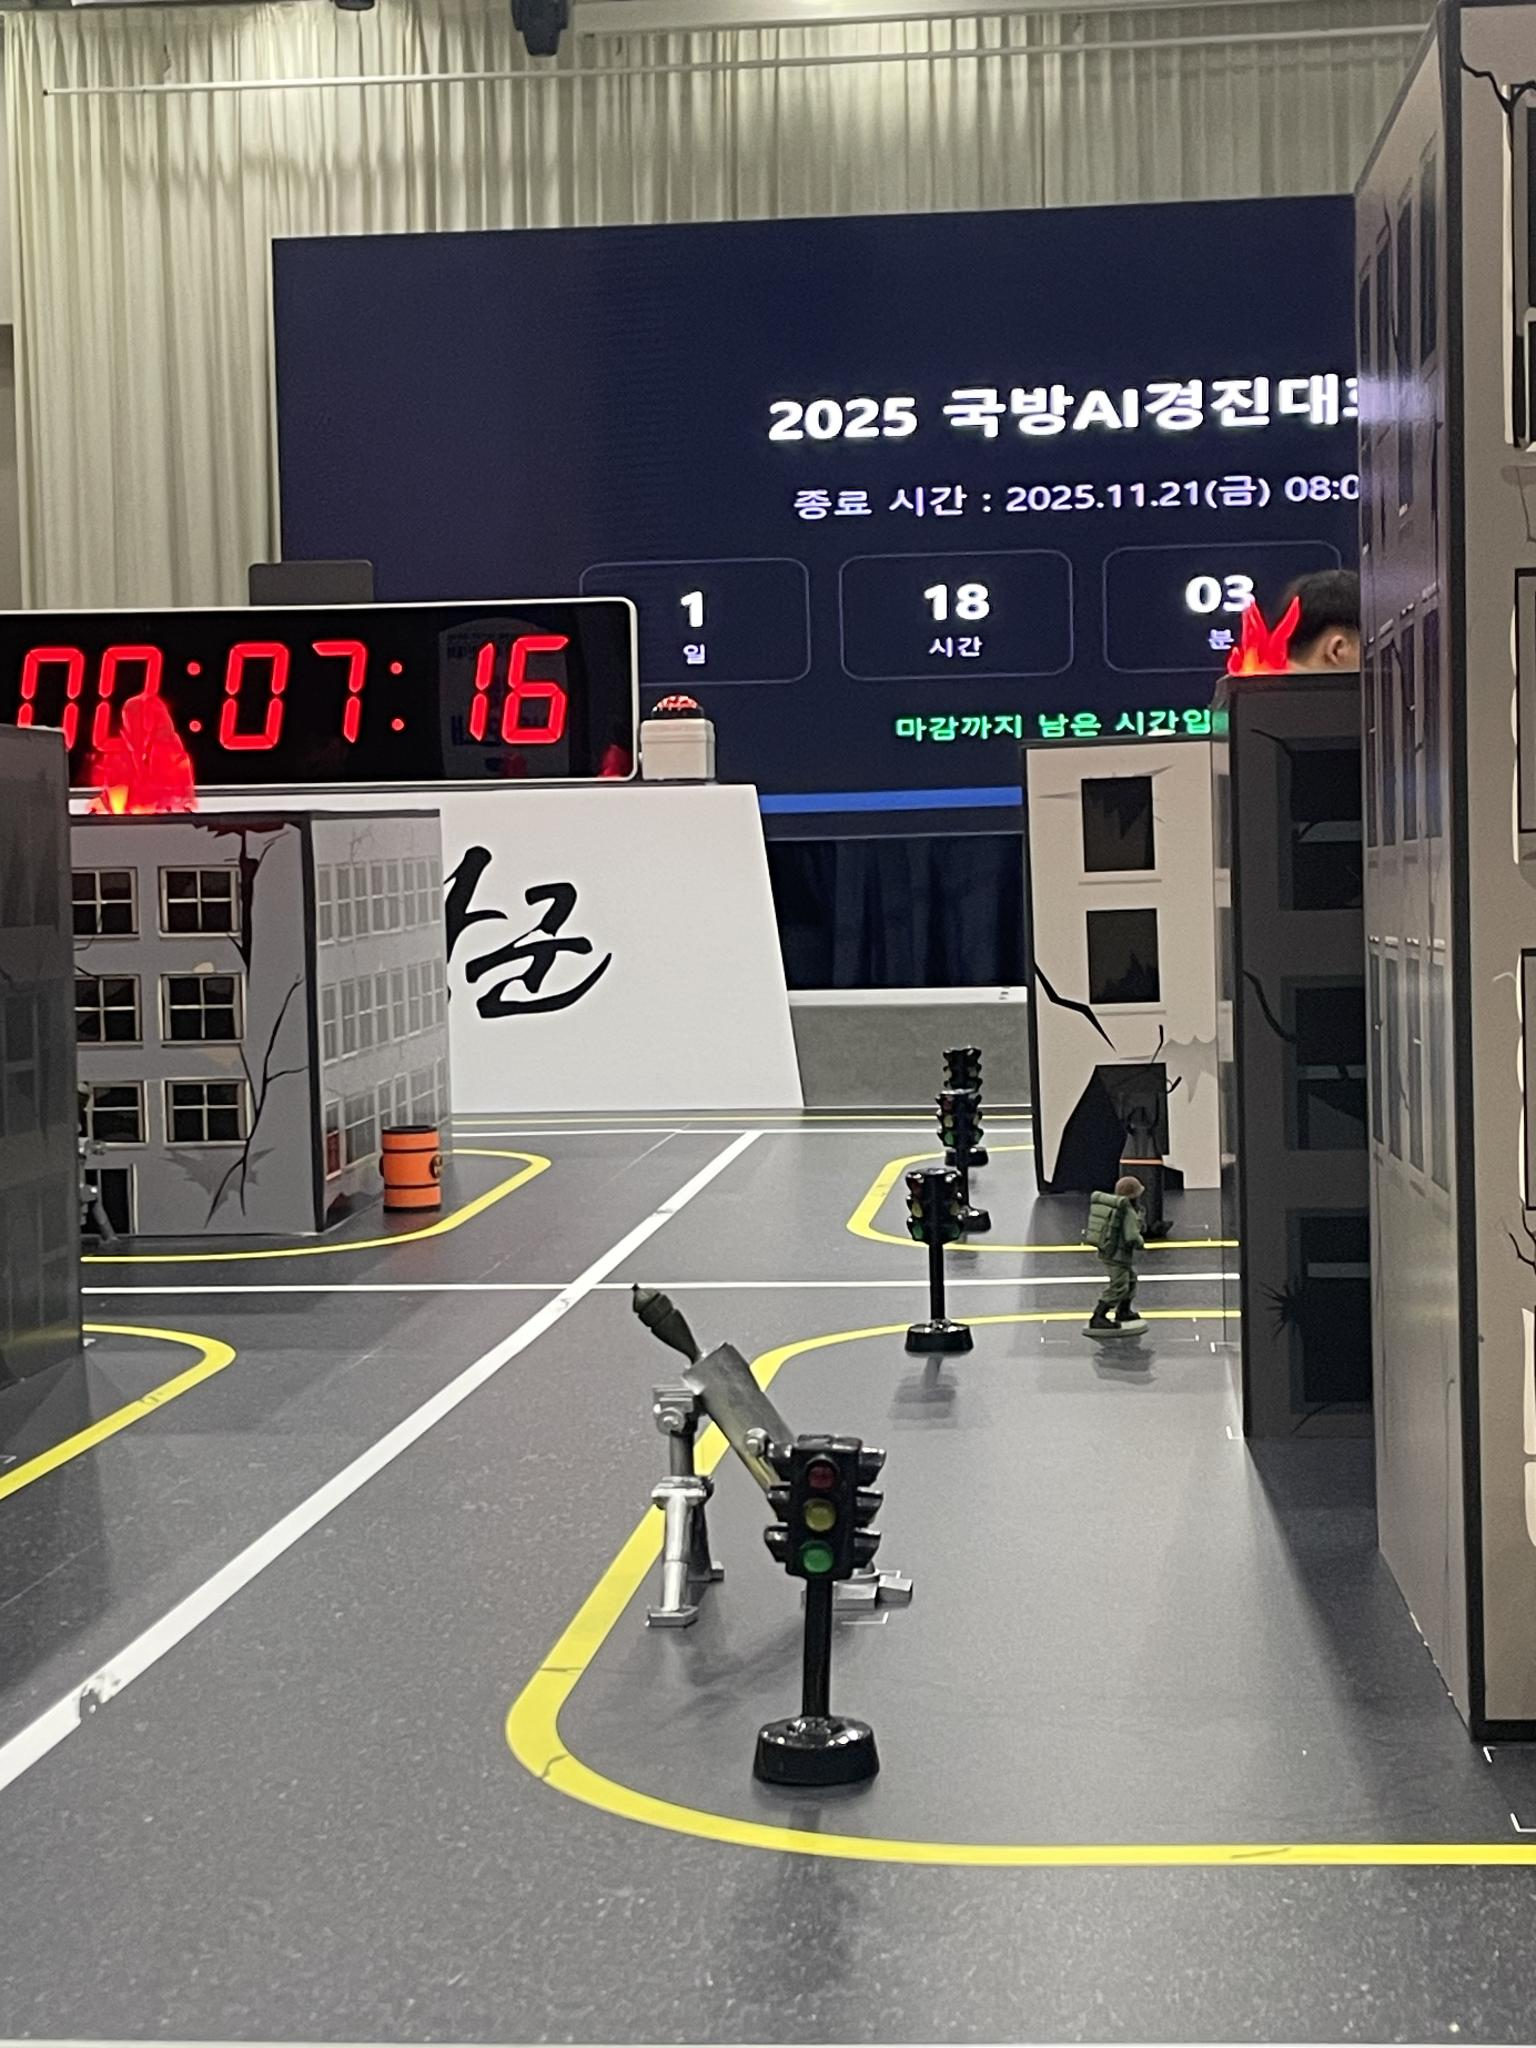Enemy: (1083, 1174, 1150, 1342)
Hazmat: (368, 1121, 452, 1214)
Missile: (1105, 1090, 1165, 1168)
Mortar: (624, 1280, 904, 1625)
